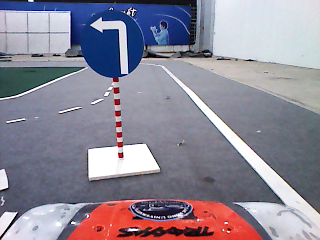turn: (79, 9, 146, 80)
